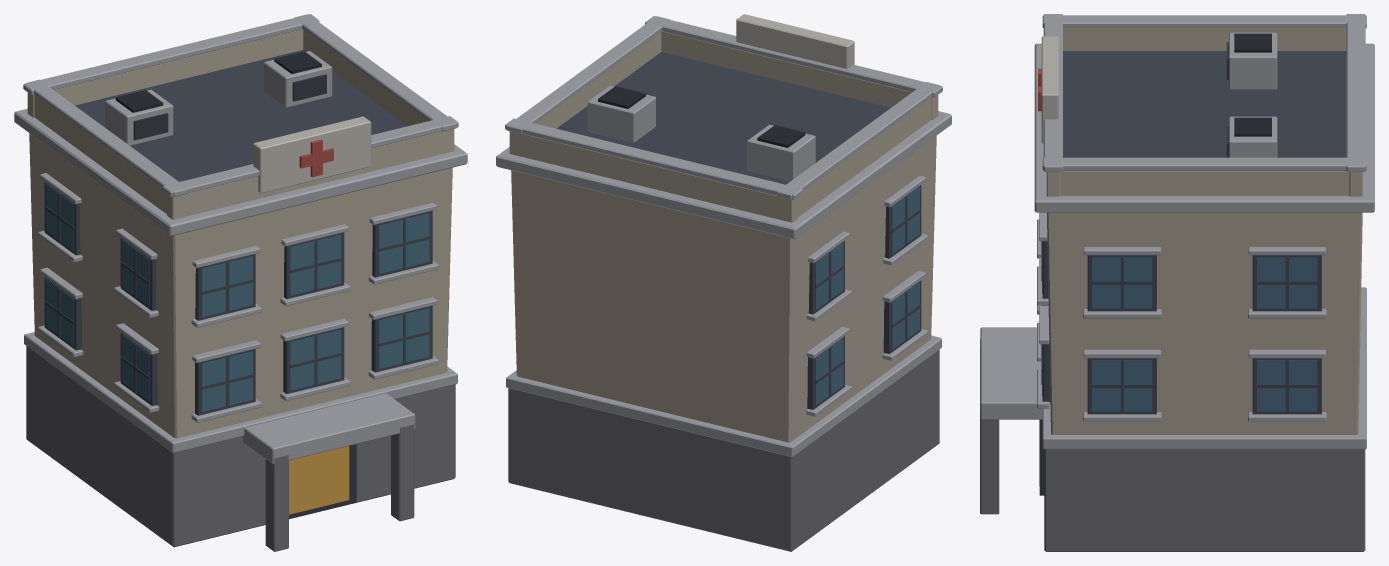
File: Stylized_Apoc_Building_04_Industrial_Hospital_Ruin.fbx
The picture shows the model from 3 angles, left to right: view 1: azimuth 30°, elevation 25°; view 2: azimuth 150°, elevation 25°; view 3: azimuth 270°, elevation 25°; orthographic projection. The views are drawn at different scales.
Parts seen in each view (by area): view 1: Stylized_Apoc_Building_04_Industrial_Hospital_Ruin; view 2: Stylized_Apoc_Building_04_Industrial_Hospital_Ruin; view 3: Stylized_Apoc_Building_04_Industrial_Hospital_Ruin.
Part boxes in pixels (bbox=[...]): Stylized_Apoc_Building_04_Industrial_Hospital_Ruin: bbox=[14, 14, 467, 551]; Stylized_Apoc_Building_04_Industrial_Hospital_Ruin: bbox=[496, 14, 951, 551]; Stylized_Apoc_Building_04_Industrial_Hospital_Ruin: bbox=[980, 14, 1374, 551].
Size of the model in its own units: 6.58 by 8 by 6.94.
